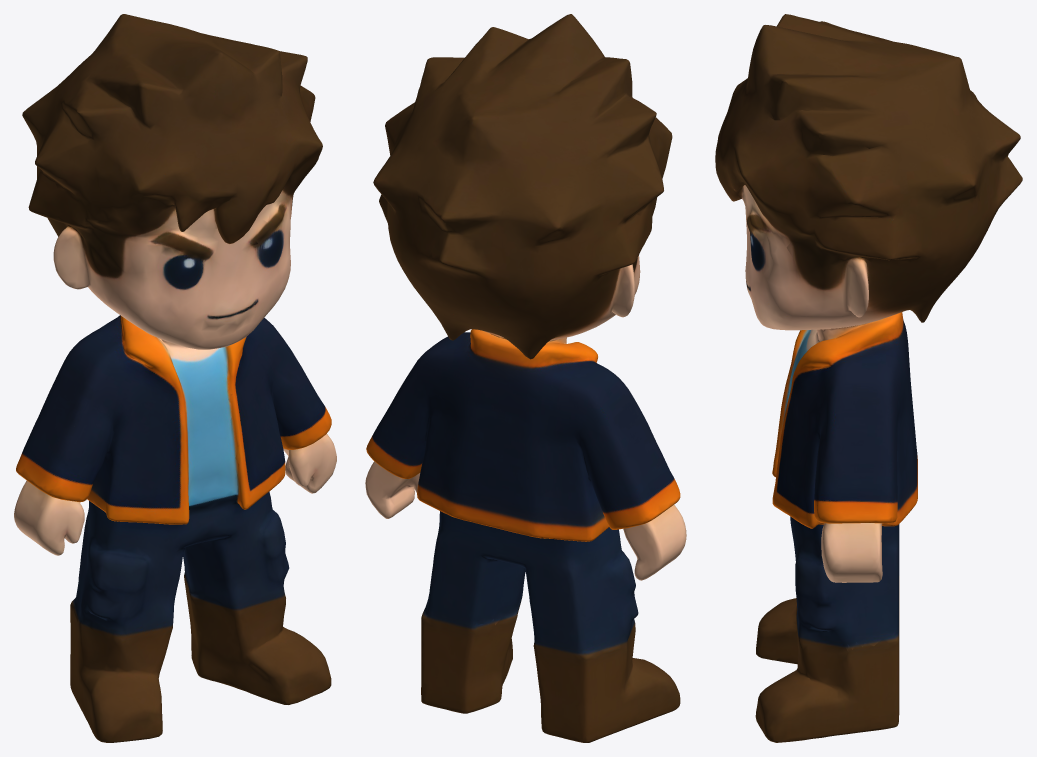
3 renders of one model, left to right at view 1: azimuth 30°, elevation 25°; view 2: azimuth 150°, elevation 25°; view 3: azimuth 270°, elevation 25°, orthographic.
Visible parts, largest first — view 1: Mesh; view 2: Mesh; view 3: Mesh.
Part boxes in pixels (x1,y1,x2,y2): Mesh: [14, 14, 336, 742]; Mesh: [365, 14, 686, 742]; Mesh: [715, 14, 1022, 742].
Size of the model in its own units: 0.8972 by 1.9 by 0.7984.
1 material, 1 textured.
